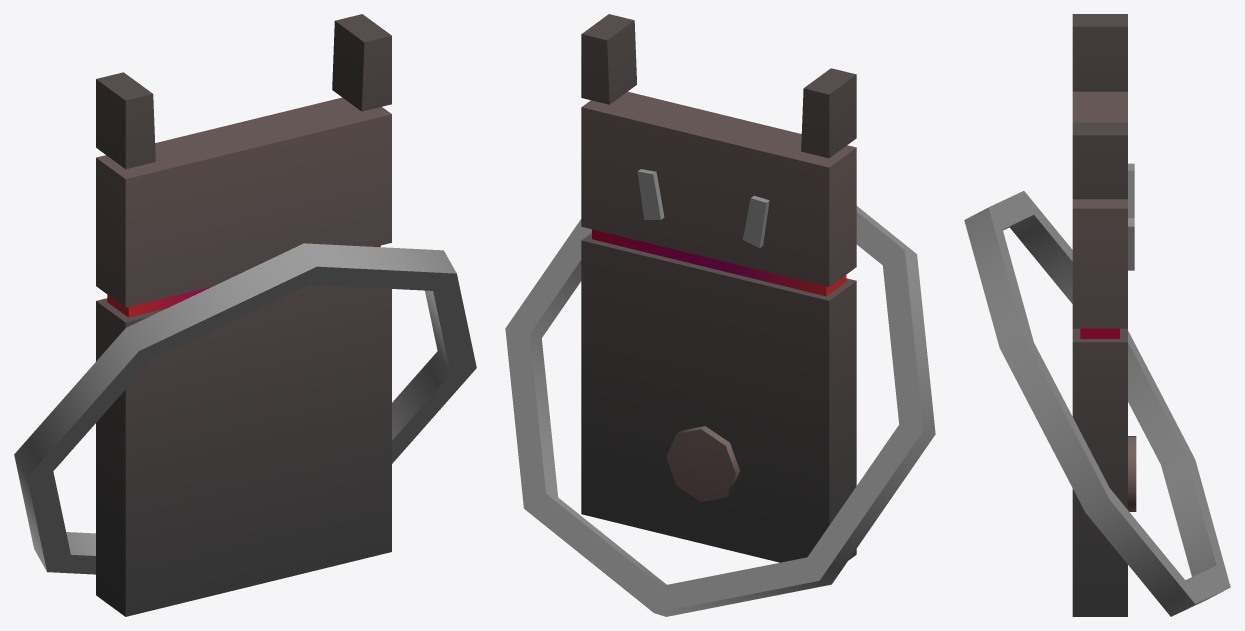
Rendered from totem_roche.FBX.
3 renders of one model, left to right at view 1: azimuth 30°, elevation 25°; view 2: azimuth 150°, elevation 25°; view 3: azimuth 270°, elevation 25°, orthographic. The views are drawn at different scales.
Visible parts, largest first — view 1: totem_roche, totem_roche_anneau; view 2: totem_roche, totem_roche_anneau, totem_roche_yeux; view 3: totem_roche, totem_roche_anneau, totem_roche_yeux.
Part boxes in pixels (x1,y1,x2,y2): totem_roche: (96,14,391,616); totem_roche_anneau: (14,243,476,574); totem_roche: (581,14,856,562); totem_roche_anneau: (505,206,935,616); totem_roche_yeux: (637,169,769,247); totem_roche: (1072,14,1136,616); totem_roche_anneau: (964,191,1230,616); totem_roche_yeux: (1128,163,1134,270).
Size of the model in its own units: 4.3 by 5.15 by 2.37.
